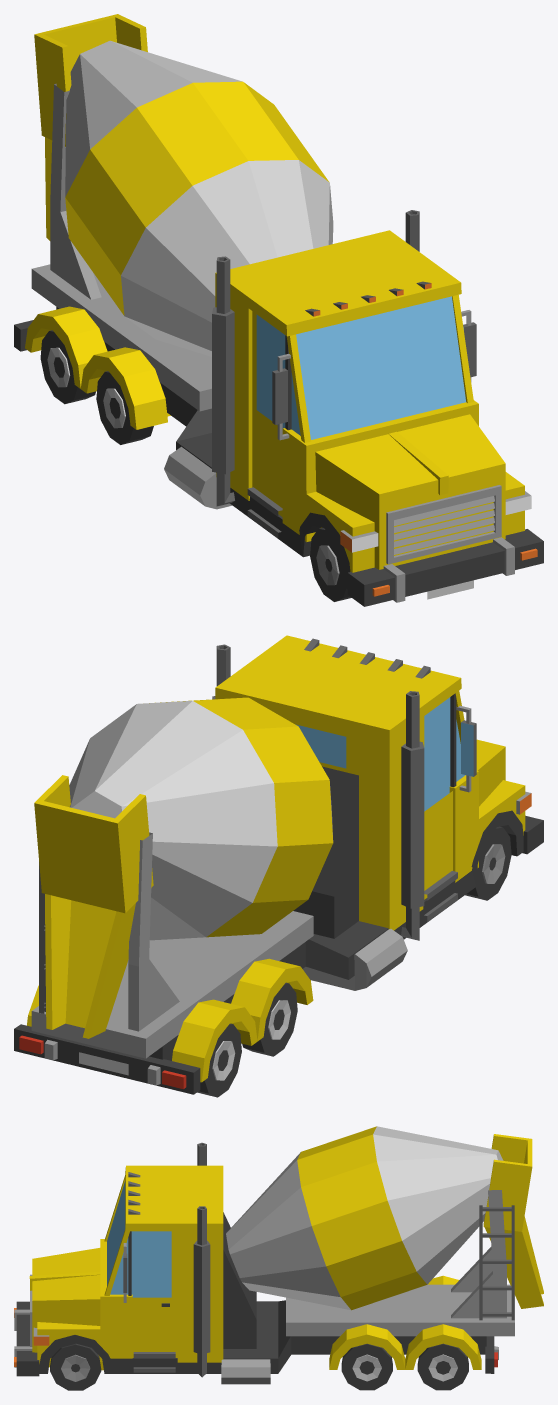
File: Truck_Concrete.fbx
3 renders of one model, top to bottom at view 1: azimuth 30°, elevation 25°; view 2: azimuth 150°, elevation 25°; view 3: azimuth 270°, elevation 25°, orthographic. The views are drawn at different scales.
Parts seen in each view (by area): view 1: Truck_Concrete; view 2: Truck_Concrete; view 3: Truck_Concrete.
Part boxes in pixels (left/top/right/bottom): Truck_Concrete: left=14, top=14, right=543, bottom=606; Truck_Concrete: left=14, top=635, right=543, bottom=1097; Truck_Concrete: left=14, top=1126, right=543, bottom=1390.
Bounding box in the file's own units: 1.07 × 1.61 × 3.38.
